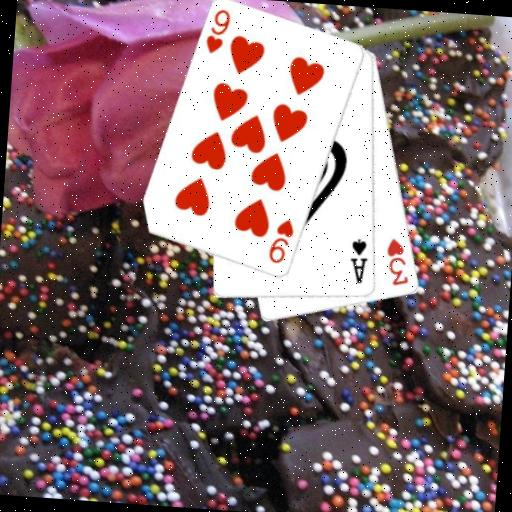3H: (382, 235, 414, 289)
9H: (202, 5, 233, 57), (266, 216, 297, 267)
AS: (347, 236, 372, 286)
